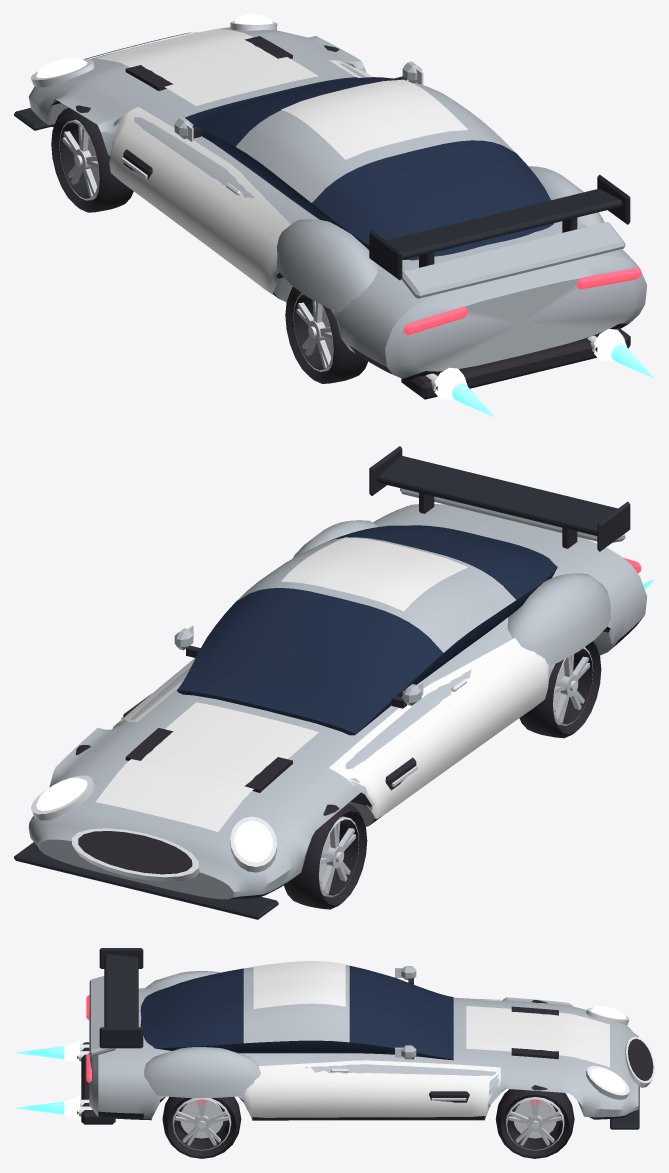
File: car_gt.glb
3 views of the same model, one above another, from view 1: azimuth 30°, elevation 25°; view 2: azimuth 150°, elevation 25°; view 3: azimuth 270°, elevation 25° (orthographic). The views are drawn at different scales.
Visible parts, largest first — view 1: Body, Vinyl, Spoiler, WheelFL, WheelRL, NitroFlame; view 2: Body, Vinyl, Spoiler, WheelFL, WheelRL; view 3: Body, Vinyl, WheelFR, WheelRR, Spoiler, NitroFlame.
Part boxes in pixels (bbox=[...]): Body: bbox=[14, 14, 647, 399]; Vinyl: bbox=[95, 28, 467, 294]; Spoiler: bbox=[369, 174, 630, 280]; WheelFL: bbox=[51, 105, 133, 212]; WheelRL: bbox=[285, 286, 367, 383]; NitroFlame: bbox=[434, 329, 654, 417]; Body: bbox=[14, 488, 647, 919]; Vinyl: bbox=[95, 537, 550, 831]; Spoiler: bbox=[369, 446, 630, 551]; WheelFL: bbox=[284, 804, 367, 909]; WheelRL: bbox=[519, 641, 601, 738]; Body: bbox=[77, 965, 654, 1129]; Vinyl: bbox=[241, 961, 609, 1117]; WheelFR: bbox=[495, 1085, 574, 1158]; WheelRR: bbox=[162, 1096, 241, 1158]; Spoiler: bbox=[99, 948, 143, 1048]; NitroFlame: bbox=[14, 1040, 79, 1120].
Bounding box in the file's own units: 2.05 × 1.31 × 5.58.
